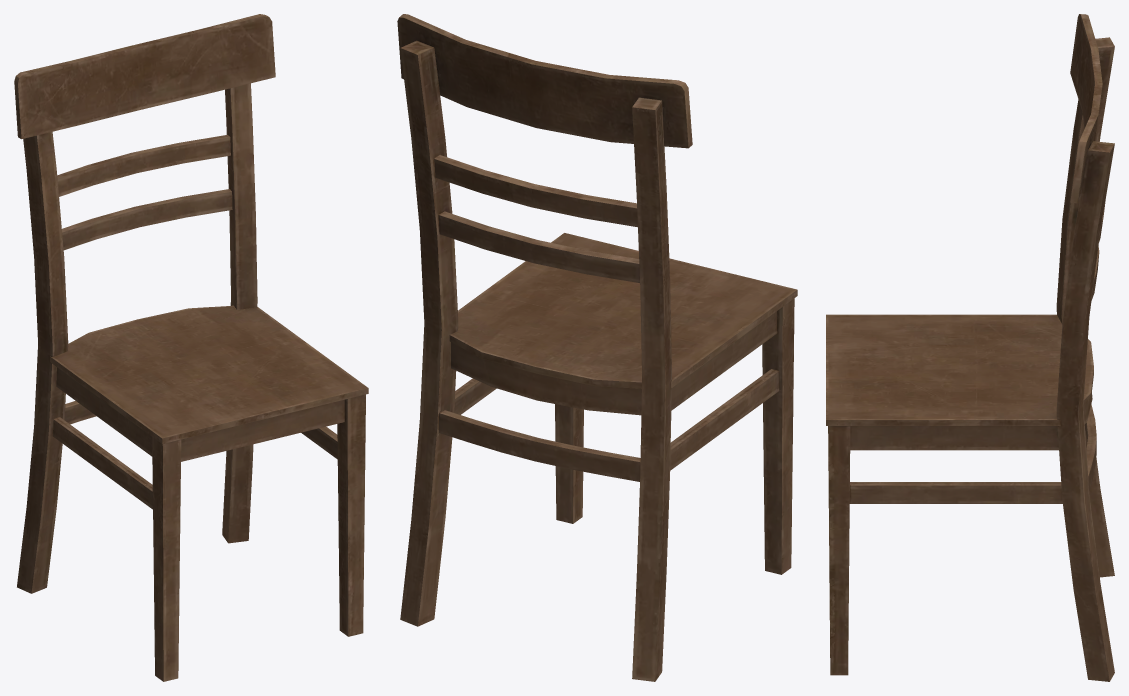
The model's file is wooden_chair-opt.glb.
The picture shows the model from 3 angles, left to right: view 1: azimuth 30°, elevation 25°; view 2: azimuth 150°, elevation 25°; view 3: azimuth 270°, elevation 25°; orthographic projection. The views are drawn at different scales.
Parts seen in each view (by area): view 1: Wood_Chair_01a.006__0; view 2: Wood_Chair_01a.006__0; view 3: Wood_Chair_01a.006__0.
Boxes of the visible parts, left/top/right/bottom form: Wood_Chair_01a.006__0: left=14, top=14, right=368, bottom=681; Wood_Chair_01a.006__0: left=397, top=14, right=797, bottom=681; Wood_Chair_01a.006__0: left=826, top=14, right=1114, bottom=681.
Size of the model in its own units: 0.5339 by 1.05 by 0.5026.
Materials: 1 (1 with a texture image).
